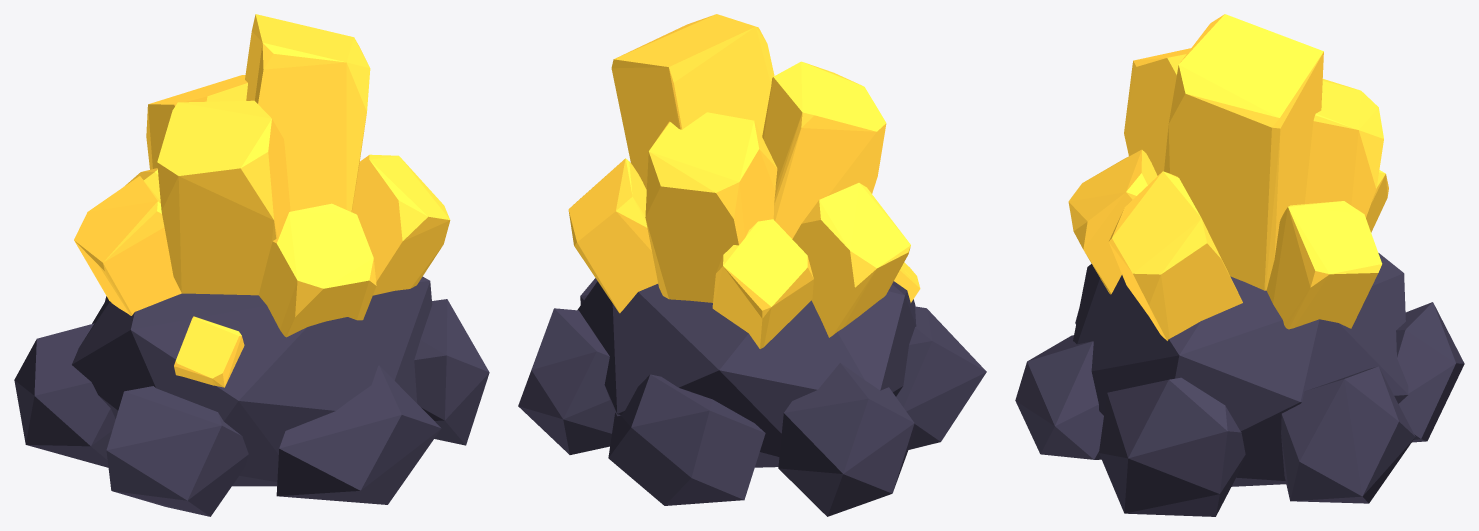
Rendered from Ore_Gold.fbx.
3 renders of one model, left to right at view 1: azimuth 30°, elevation 25°; view 2: azimuth 150°, elevation 25°; view 3: azimuth 270°, elevation 25°, orthographic. The views are drawn at different scales.
Parts seen in each view (by area): view 1: Ore_Rock, Ore_Crystal; view 2: Ore_Crystal, Ore_Rock; view 3: Ore_Rock, Ore_Crystal.
Boxes of the visible parts, x1=… form: Ore_Rock: x1=14, y1=276, x2=489, y2=516; Ore_Crystal: x1=74, y1=14, x2=450, y2=387; Ore_Crystal: x1=568, y1=14, x2=920, y2=348; Ore_Rock: x1=518, y1=278, x2=986, y2=516; Ore_Rock: x1=1015, y1=253, x2=1464, y2=516; Ore_Crystal: x1=1068, y1=14, x2=1388, y2=340.
Bounding box in the file's own units: 1.85 × 2 × 1.85.
